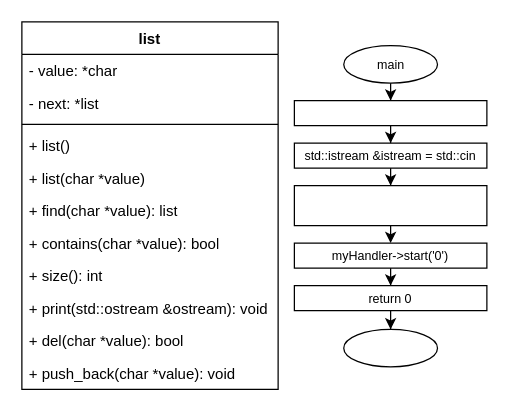
Image size: 509x415. Some labels were removed from this diagram. Here are the shapes that lost their labels. From the top down, the box of each, then its label:
(293, 99, 487, 126): std::ostream &ostream = std::cout
(293, 184, 487, 226): MyHandler *myHandler = new MyHandler(ostream, istream)
(342, 328, 438, 367): Конец
